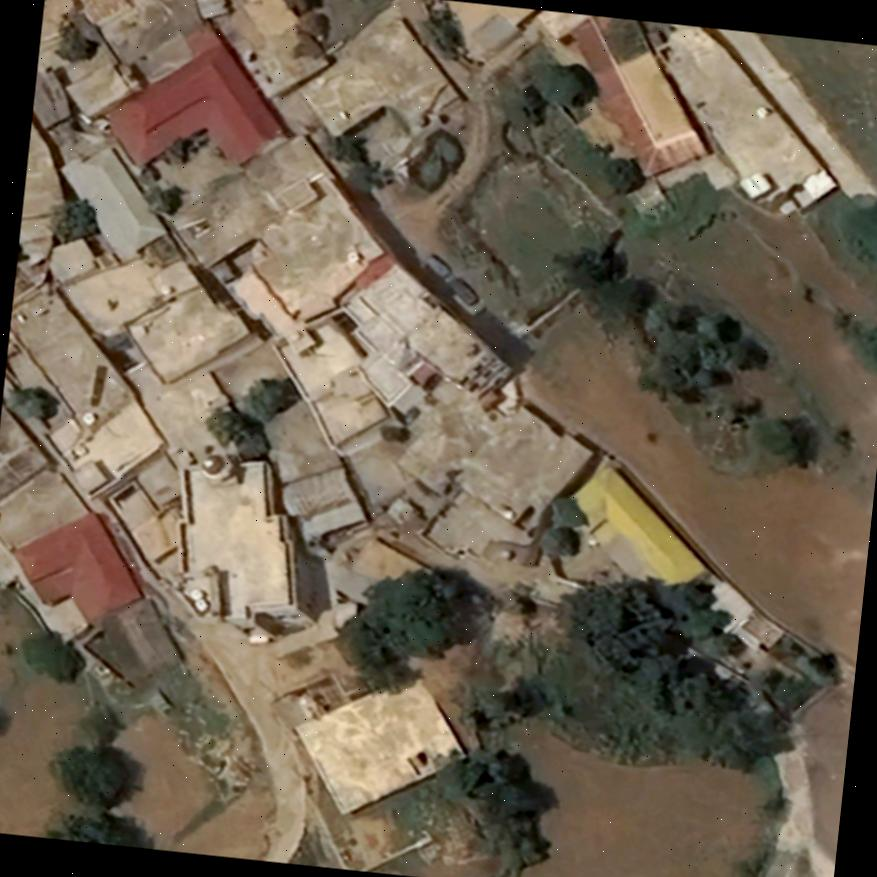Solarpanel: (90, 364, 108, 407)
